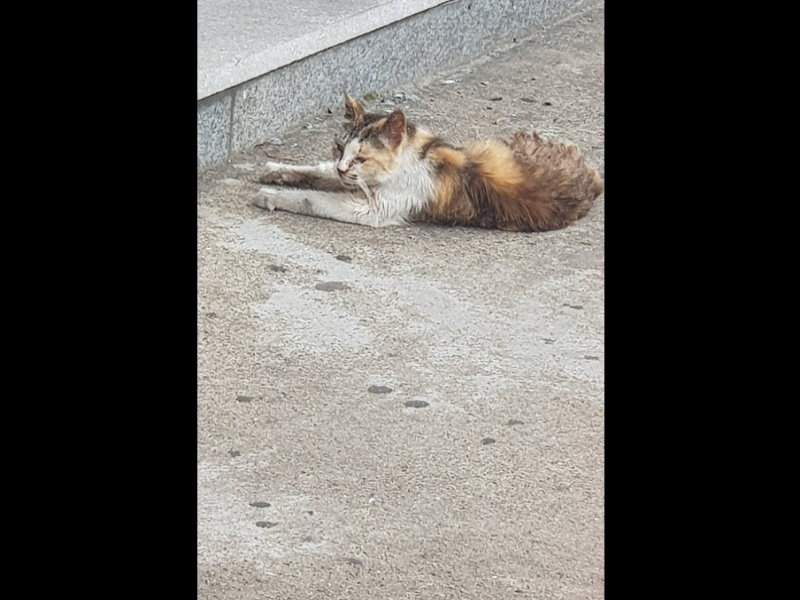cat: (249, 87, 600, 237)
